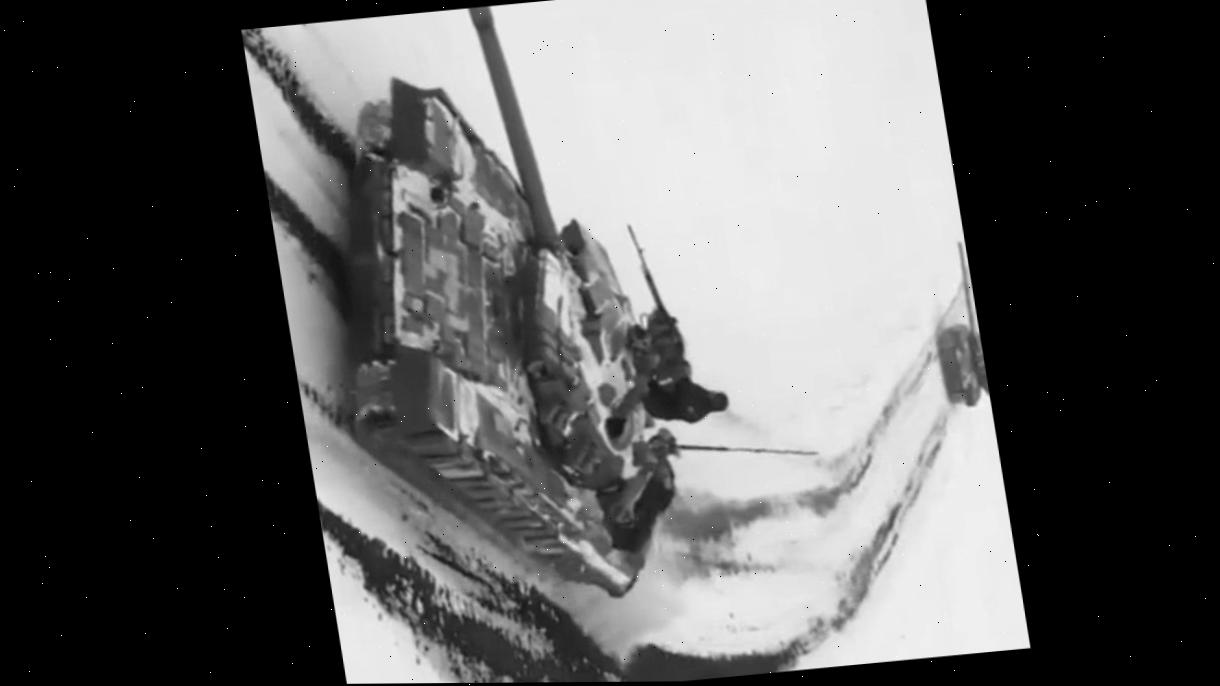tank: (281, 0, 760, 621), (921, 232, 993, 422)
